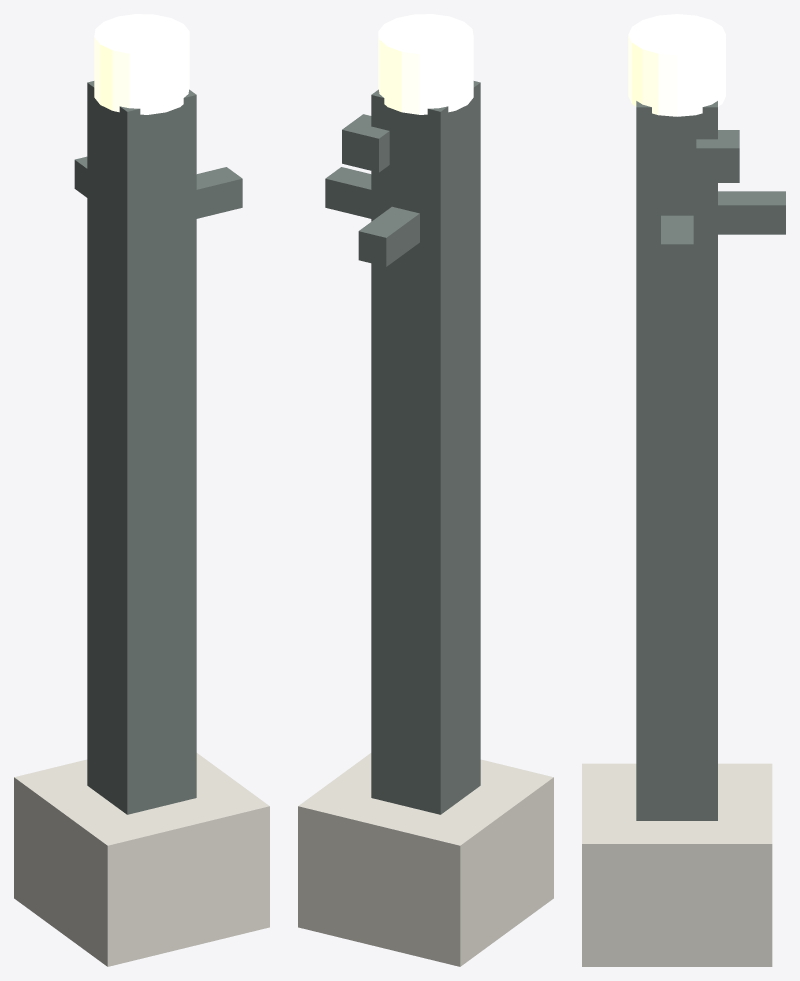
Rendered from Fence_Corner_Post.fbx.
The picture shows the model from 3 angles, left to right: view 1: azimuth 30°, elevation 25°; view 2: azimuth 150°, elevation 25°; view 3: azimuth 270°, elevation 25°; orthographic projection.
Parts seen in each view (by area): view 1: Corner_Post_Steel, Corner_Footing, Beacon_Gold_Cap, Rail_Stub_X; view 2: Corner_Post_Steel, Corner_Footing, Beacon_Gold_Cap, Rail_Stub_Y, Security_Camera_Pod, Rail_Stub_X; view 3: Corner_Post_Steel, Corner_Footing, Beacon_Gold_Cap, Rail_Stub_Y, Security_Camera_Pod, Rail_Stub_X.
Part boxes in pixels (<box>): Corner_Post_Steel: <box>87,81,196,814</box>; Corner_Footing: <box>14,753,269,966</box>; Beacon_Gold_Cap: <box>94,14,189,114</box>; Rail_Stub_X: <box>196,167,242,218</box>; Corner_Post_Steel: <box>371,81,480,814</box>; Corner_Footing: <box>298,753,553,966</box>; Beacon_Gold_Cap: <box>378,14,473,114</box>; Rail_Stub_Y: <box>358,206,419,266</box>; Security_Camera_Pod: <box>342,114,389,172</box>; Rail_Stub_X: <box>325,167,371,218</box>; Corner_Post_Steel: <box>636,101,717,820</box>; Corner_Footing: <box>582,763,772,966</box>; Beacon_Gold_Cap: <box>628,14,725,116</box>; Rail_Stub_Y: <box>718,191,785,234</box>; Security_Camera_Pod: <box>696,130,739,182</box>; Rail_Stub_X: <box>661,215,693,273</box>.
Size of the model in its own units: 75 by 362 by 75.
